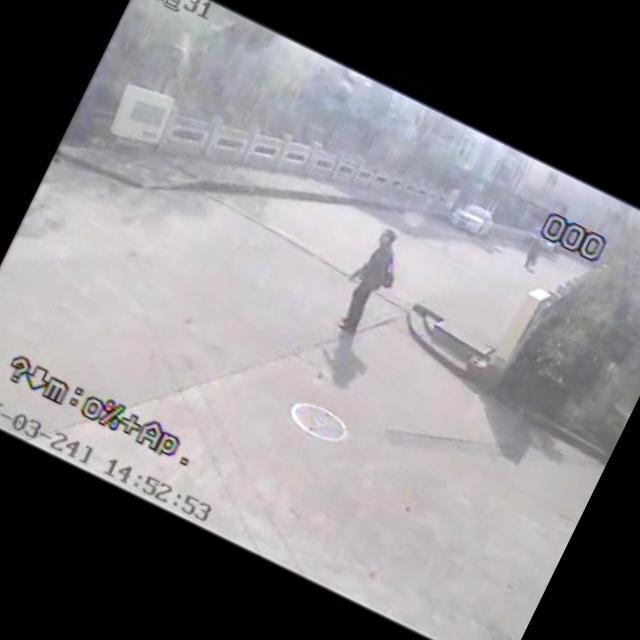person: (322, 219, 416, 343), (517, 232, 550, 272)
